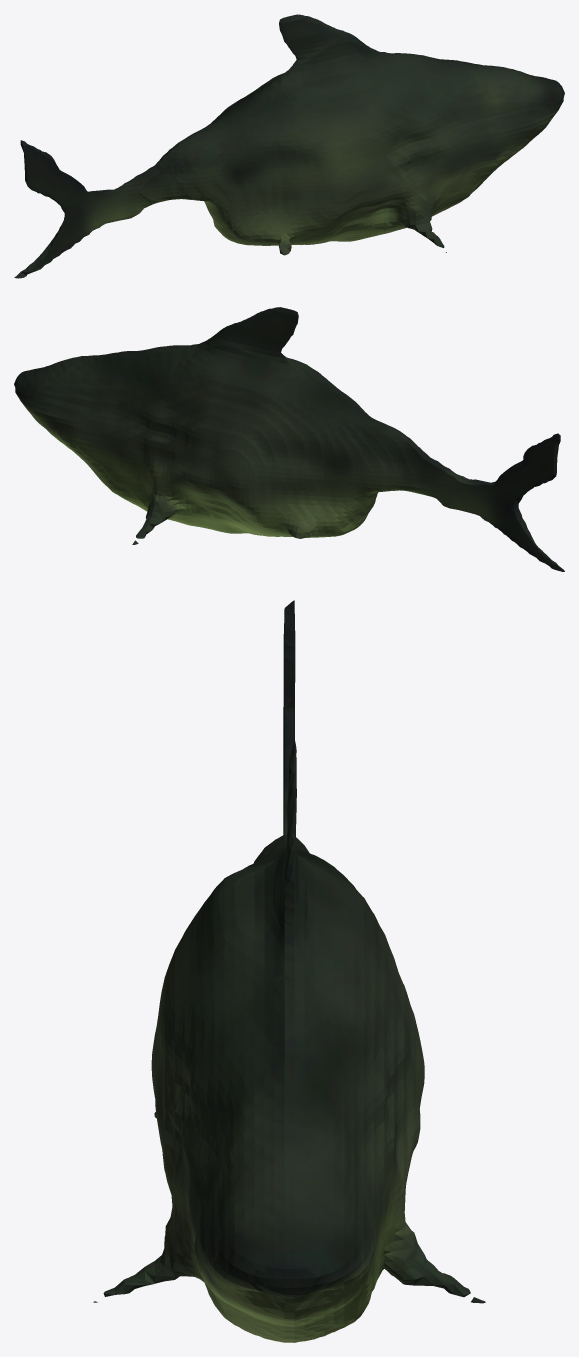
Rendered from Pez_1.fbx.
3 renders of one model, top to bottom at view 1: azimuth 30°, elevation 25°; view 2: azimuth 150°, elevation 25°; view 3: azimuth 270°, elevation 25°, orthographic. The views are drawn at different scales.
Visible parts, largest first — view 1: tmpgxspv5qt.ply; view 2: tmpgxspv5qt.ply; view 3: tmpgxspv5qt.ply.
Part boxes in pixels (x1,y1,x2,y2): tmpgxspv5qt.ply: (14, 14, 564, 278); tmpgxspv5qt.ply: (14, 307, 564, 571); tmpgxspv5qt.ply: (93, 600, 485, 1342).
Size of the model in its own units: 195 by 81.42 by 61.19.
